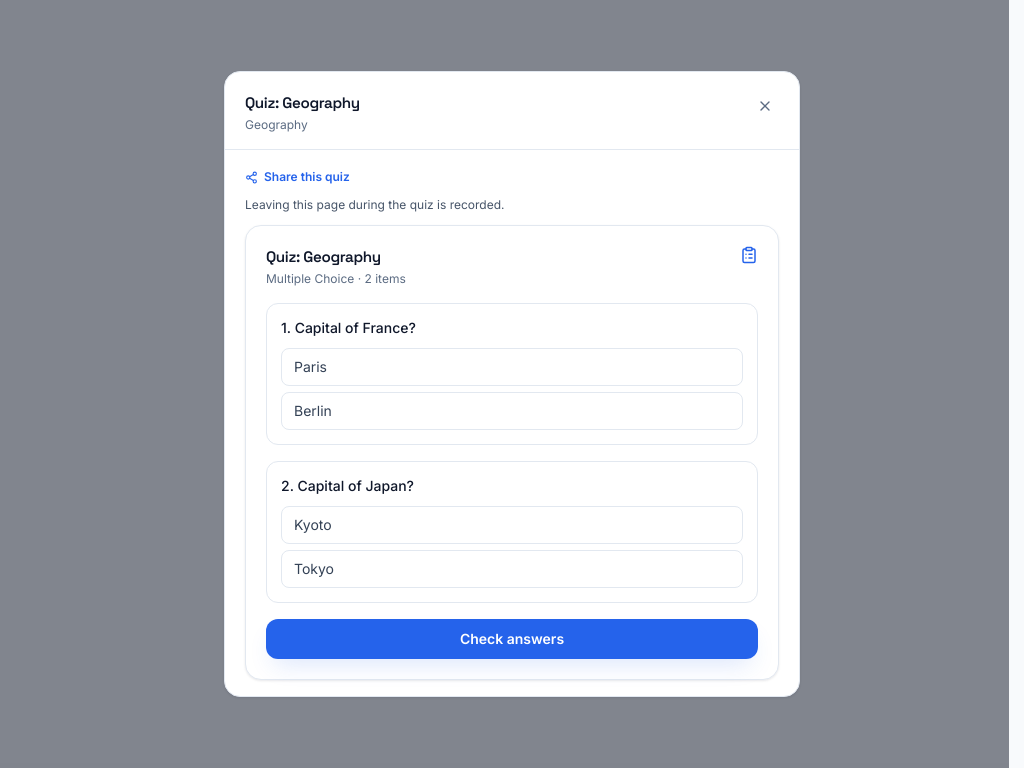
Test case: QuizRunner — results with gamification hidden (the default) › shows no +XP, no level toast, and only study-milestone toasts
Expected: the text "1. Capital of France?" is shown, [281, 319, 416, 336]
Click the button "Berlin".
click(313, 411)  # box [281, 392, 743, 430]
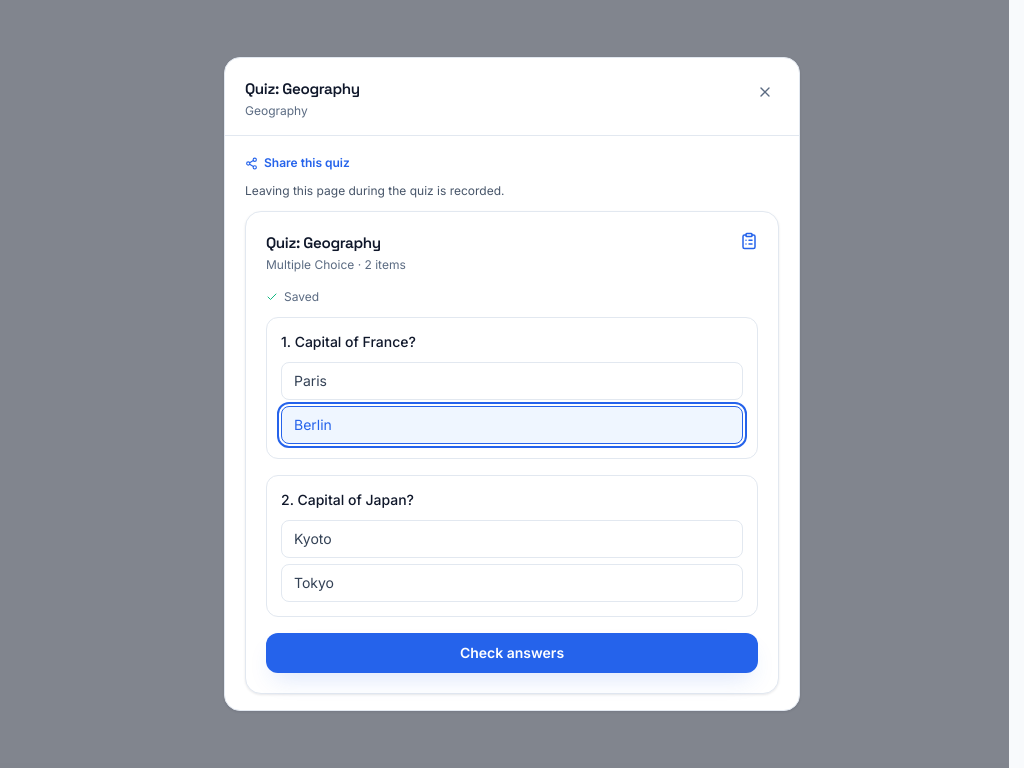
Click the button "Tokyo".
click(314, 583)  # box [281, 564, 743, 602]
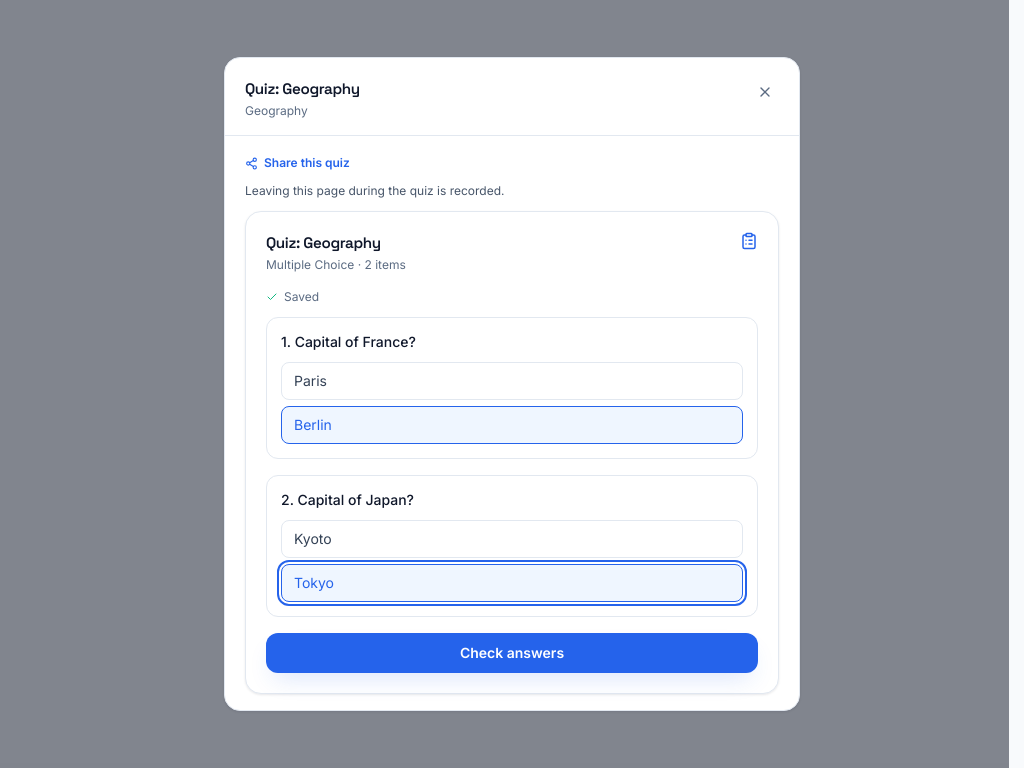
Click the button "Check answers".
click(512, 653)  # box [266, 633, 758, 673]
(page scrolled)
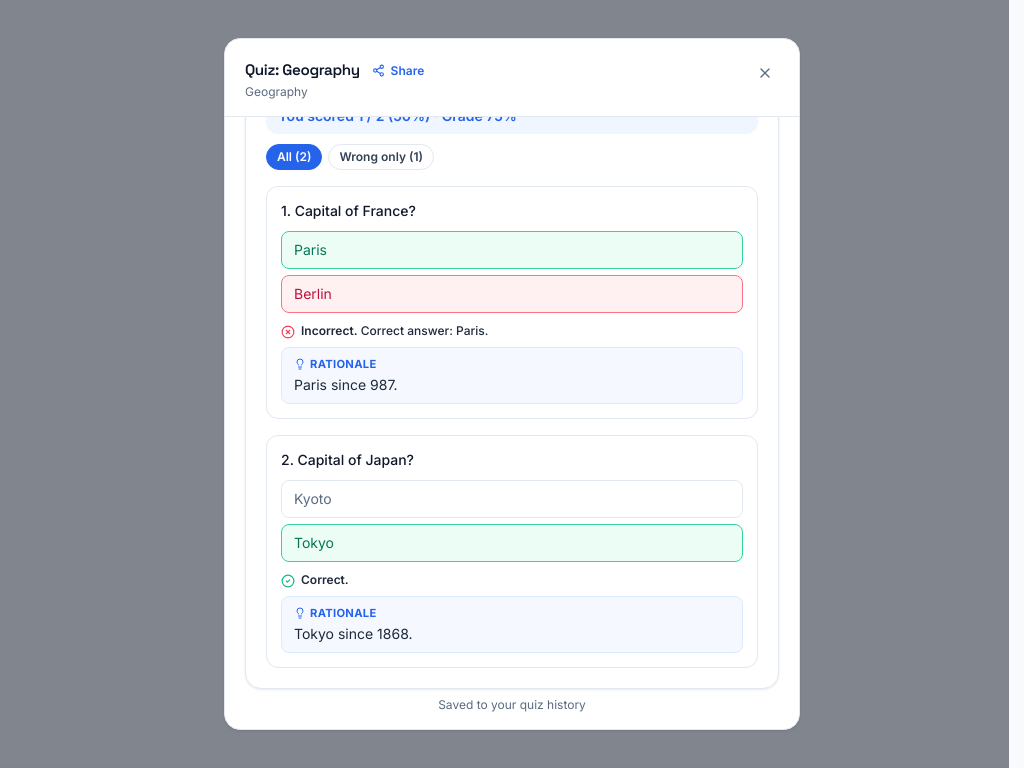
Expected: the text "Saved to your quiz history" is shown, [438, 697, 586, 712]
